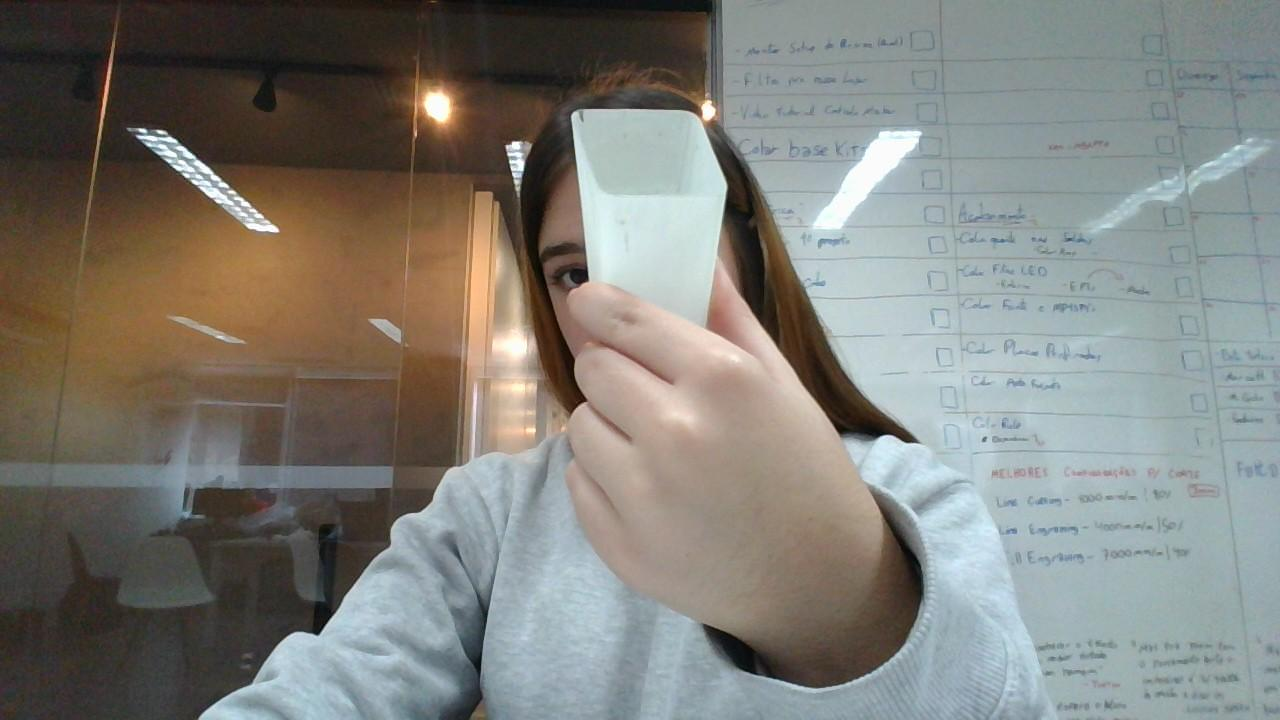erva_daninha: (570, 107, 728, 335)
